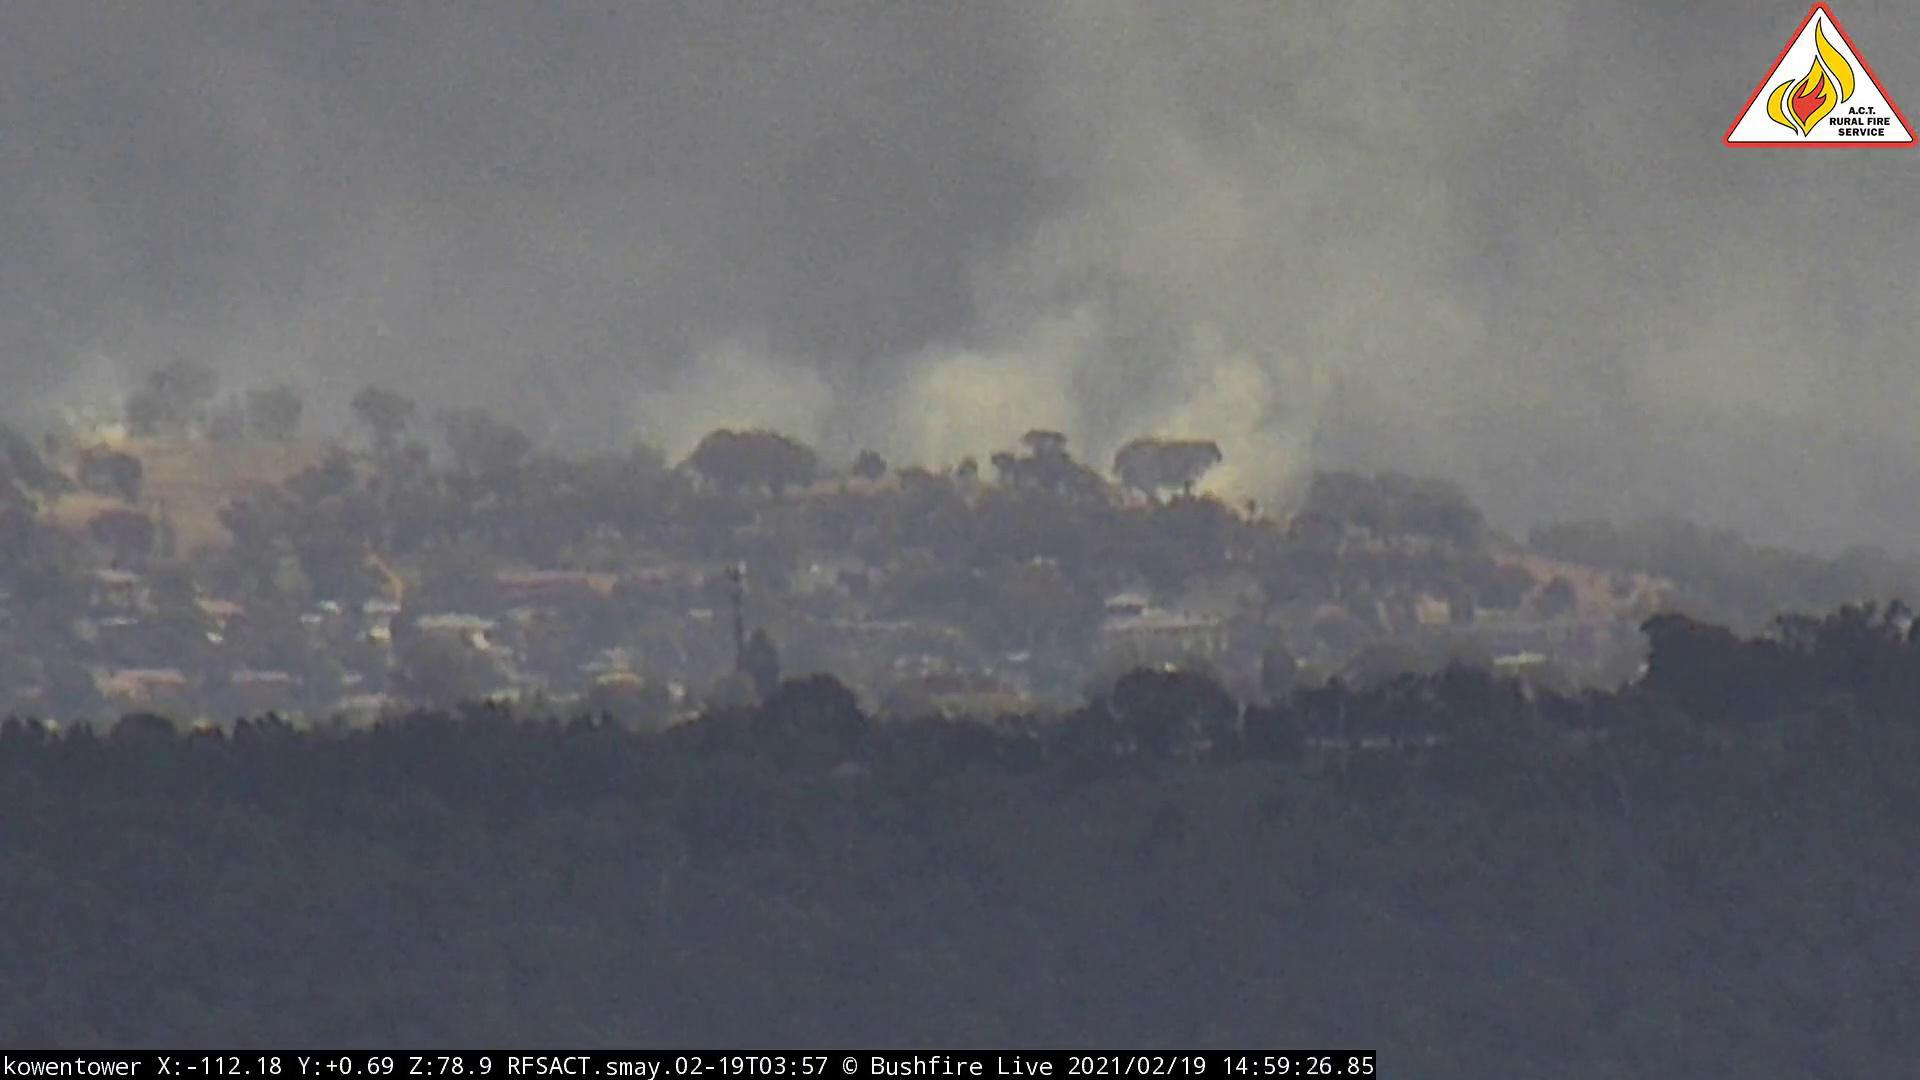Smoke: (638, 3, 1532, 498)
